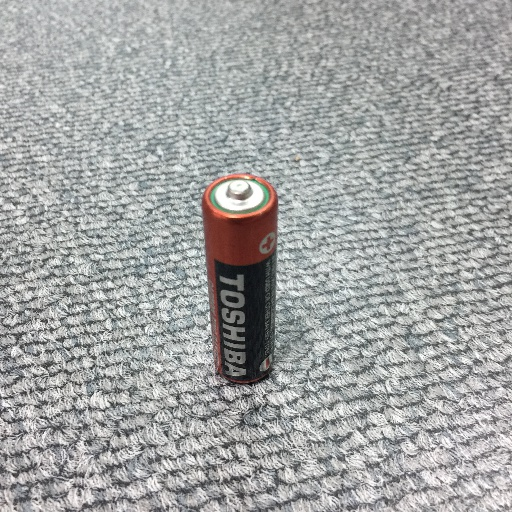Battery_0: (187, 154, 303, 402)
